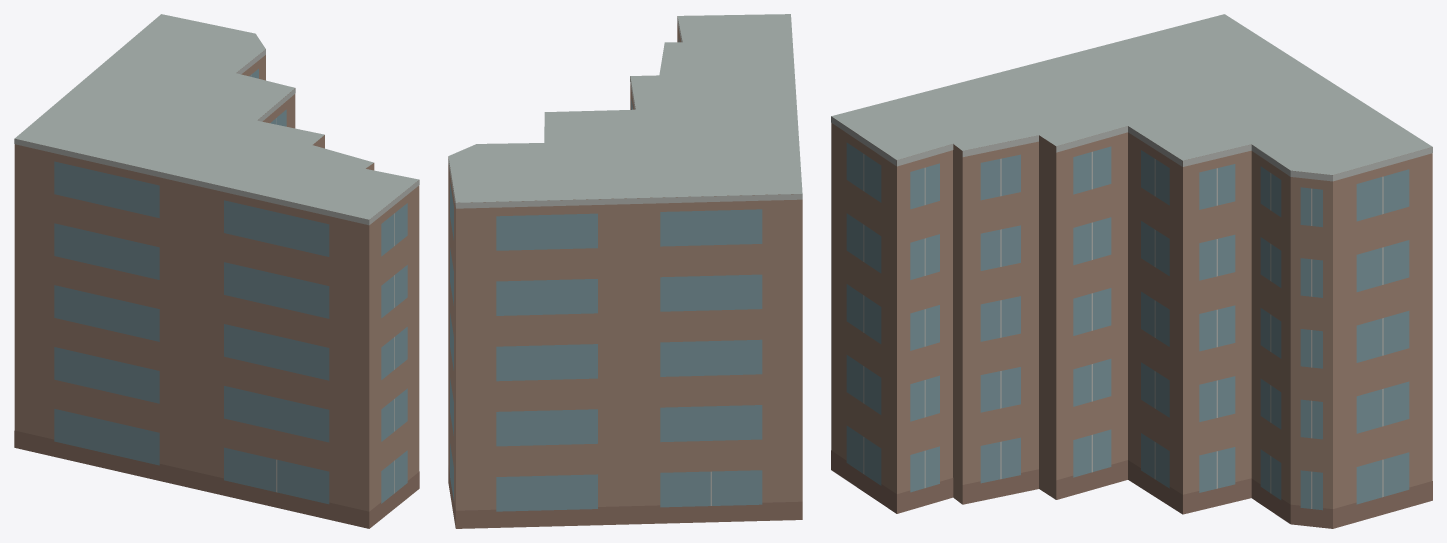
Rendered from survey-upis-32768927.glb.
The picture shows the model from 3 angles, left to right: view 1: azimuth 30°, elevation 25°; view 2: azimuth 150°, elevation 25°; view 3: azimuth 270°, elevation 25°; orthographic projection. The views are drawn at different scales.
Visible parts, largest first — view 1: survey-upis-32768927.tmp; view 2: survey-upis-32768927.tmp; view 3: survey-upis-32768927.tmp.
Part boxes in pixels (x1,y1,x2,y2): survey-upis-32768927.tmp: (14, 14, 419, 528); survey-upis-32768927.tmp: (448, 14, 802, 528); survey-upis-32768927.tmp: (831, 14, 1432, 528).
Bounding box in the file's own units: 13.29 × 13.6 × 20.97.
